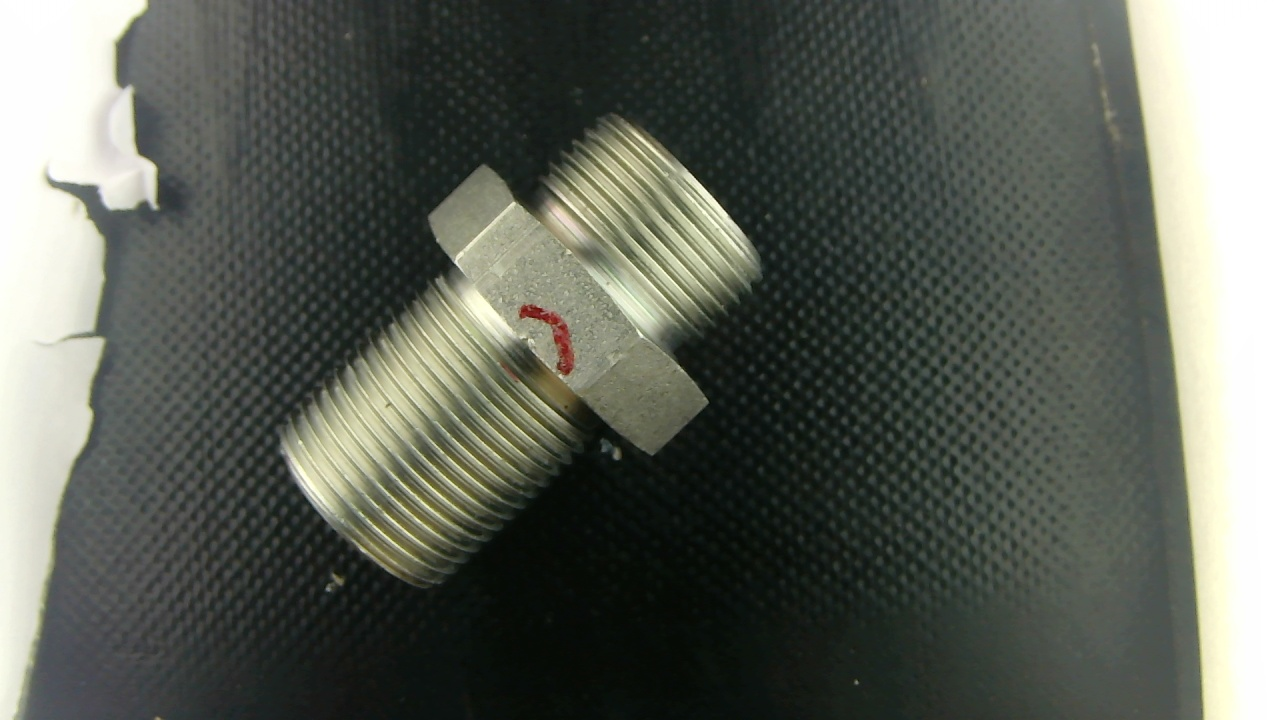SurfaceDent_Adaptor: (520, 335, 536, 354)
